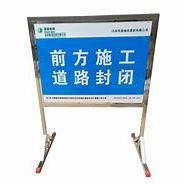sign: (34, 21, 152, 103)
